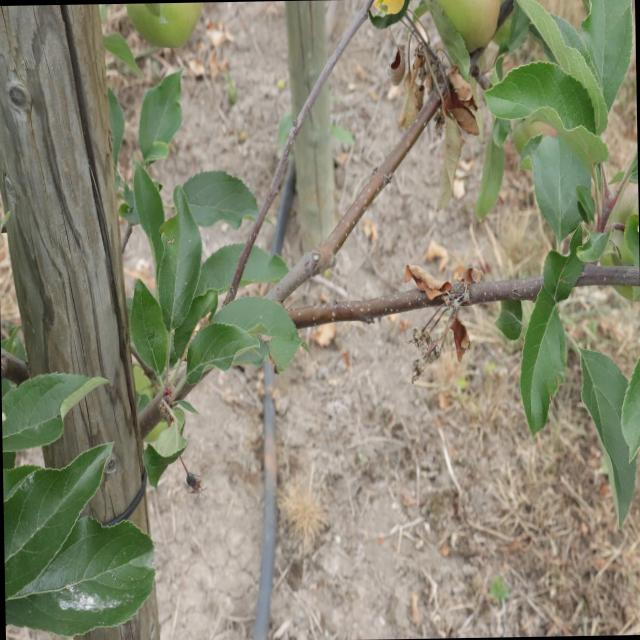-FireBlight-: (389, 31, 489, 214), (399, 257, 483, 371)
